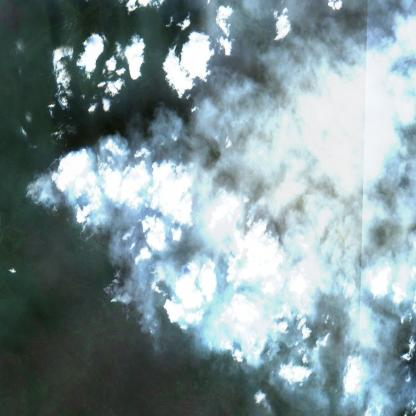fire: (20, 118, 304, 334)
